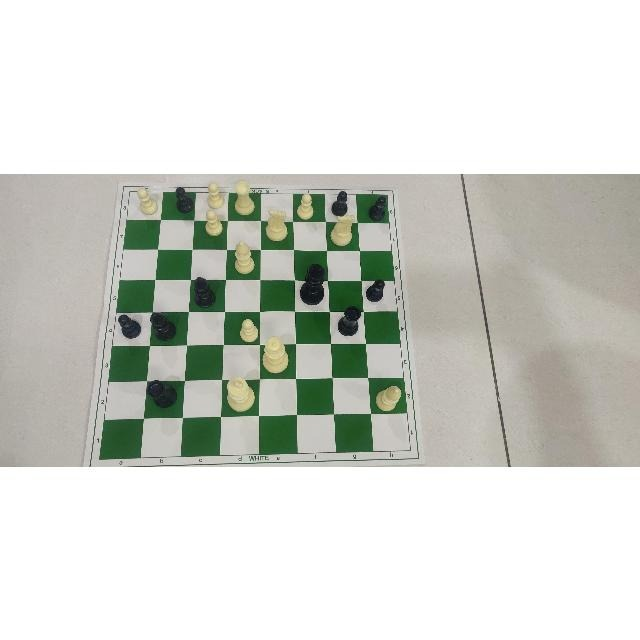black-bishop: (148, 310, 177, 341), (192, 274, 216, 307)
black-pawn: (117, 312, 145, 337), (173, 185, 197, 213), (366, 193, 391, 217), (363, 277, 386, 302), (329, 188, 349, 213)
black-rook: (143, 379, 178, 407), (336, 304, 363, 337)
white-bishop: (232, 238, 255, 274), (371, 385, 404, 410)
white-king: (222, 372, 256, 413), (297, 263, 328, 305)
white-knight: (262, 206, 288, 243), (330, 212, 354, 247)
white-pawn: (133, 187, 160, 217), (201, 179, 226, 208), (201, 209, 224, 237), (296, 190, 314, 218), (237, 316, 257, 341)
white-queen: (259, 336, 290, 375)
white-rook: (230, 177, 256, 215)
